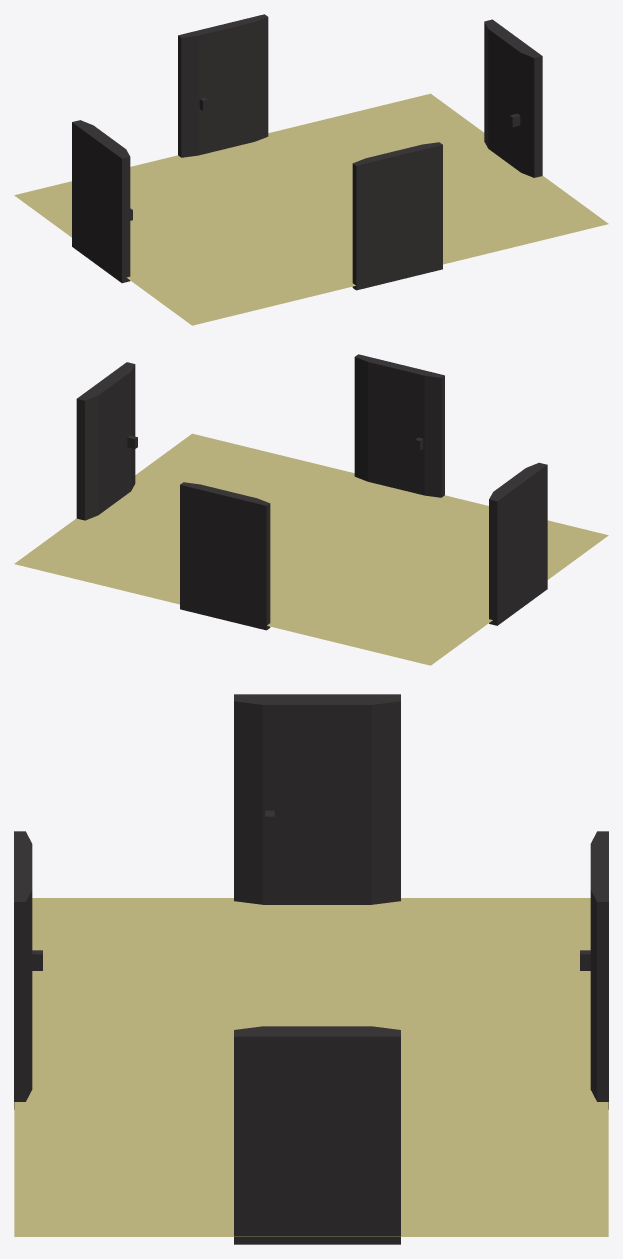
The model's file is ByakkoStage4.8.fbx.
The picture shows the model from 3 angles, top to bottom: view 1: azimuth 30°, elevation 25°; view 2: azimuth 150°, elevation 25°; view 3: azimuth 270°, elevation 25°; orthographic projection. The views are drawn at different scales.
Visible parts, largest first — view 1: Plane.038, Plane.039; view 2: Plane.038, Plane.039; view 3: Plane.038, Plane.039.
Part boxes in pixels (x1=…): Plane.038: x1=14, y1=93, x2=608, y2=325; Plane.039: x1=72, y1=14, x2=542, y2=290; Plane.038: x1=14, y1=433, x2=608, y2=665; Plane.039: x1=76, y1=354, x2=547, y2=630; Plane.038: x1=14, y1=898, x2=608, y2=1236; Plane.039: x1=14, y1=694, x2=608, y2=1244.
Size of the model in its own units: 34.66 by 9.8 by 25.43.
